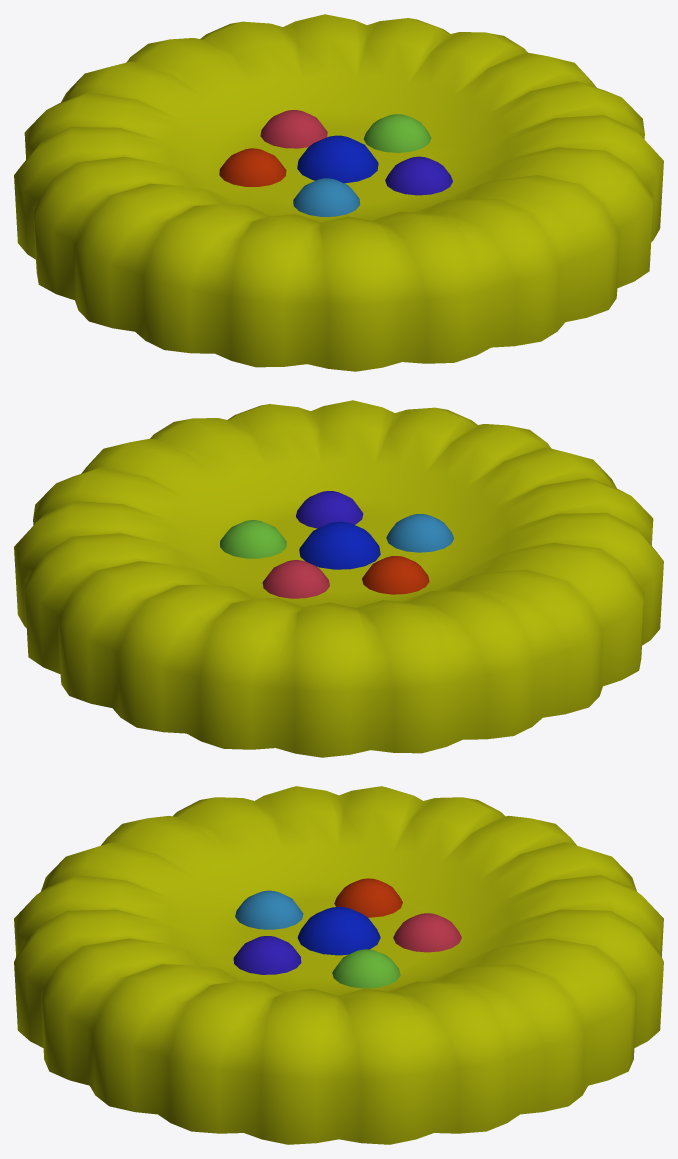
The model's file is Yakgwa.fbx.
The picture shows the model from 3 angles, top to bottom: view 1: azimuth 30°, elevation 25°; view 2: azimuth 150°, elevation 25°; view 3: azimuth 270°, elevation 25°; orthographic projection.
Visible parts, largest first — view 1: Yakgwa; view 2: Yakgwa; view 3: Yakgwa.
Part boxes in pixels (bbox=[...]): Yakgwa: bbox=[14, 14, 663, 371]; Yakgwa: bbox=[14, 400, 663, 757]; Yakgwa: bbox=[14, 786, 663, 1144].
Size of the model in its own units: 40.57 by 40.57 by 7.55.
